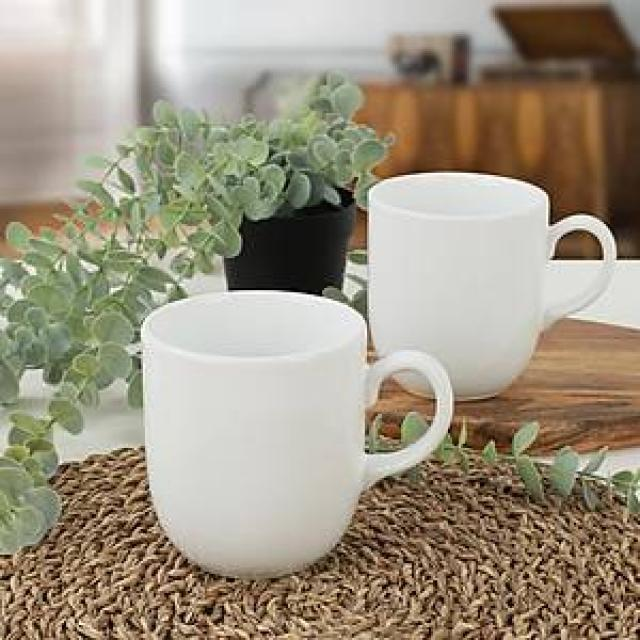Coffee Mug: (136, 286, 454, 584), (364, 170, 618, 408)
